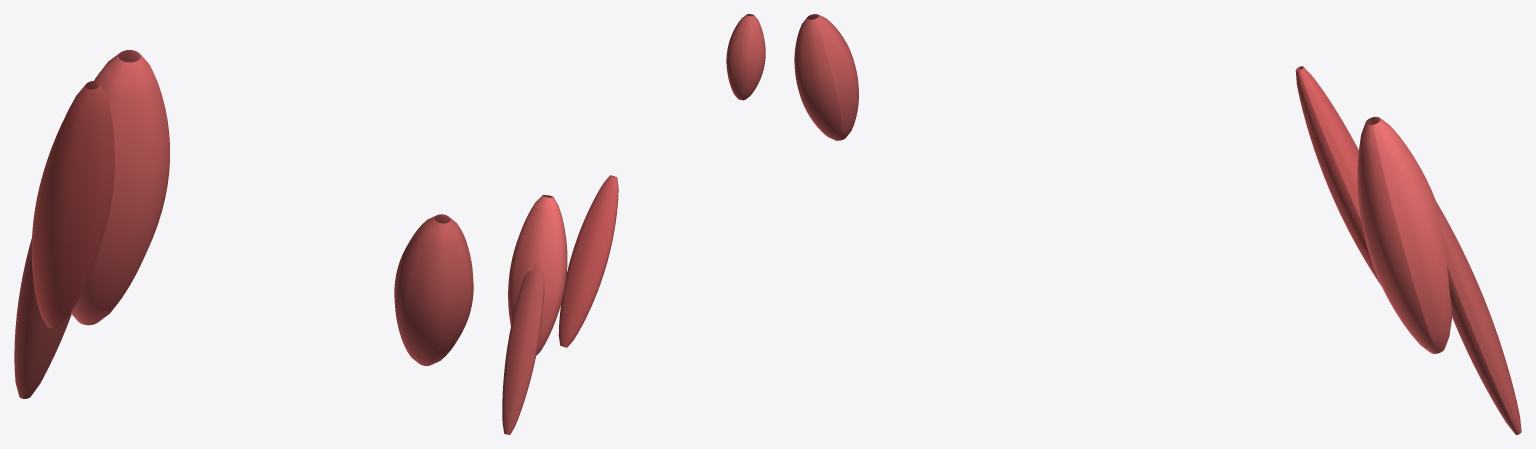
File: muscular.glb
3 views of the same model, side by side, from view 1: azimuth 30°, elevation 25°; view 2: azimuth 150°, elevation 25°; view 3: azimuth 270°, elevation 25° (orthographic). The views are drawn at different scales.
Visible parts, largest first — view 1: Mesh_Canine_MusculusIliopsoas, Mesh_Canine_MusculusQuadricepsFemoris, Mesh_Canine_MusculusMasseter, Mesh_Canine_MusculusGastrocnemius; view 2: Mesh_Canine_MusculusQuadricepsFemoris, Mesh_Canine_MusculusIliopsoas, Mesh_Canine_MusculusGastrocnemius, Mesh_Canine_MusculusMasseter; view 3: Mesh_Canine_MusculusQuadricepsFemoris, Mesh_Canine_MusculusMasseter, Mesh_Canine_MusculusGastrocnemius, Mesh_Canine_MusculusIliopsoas.
Part boxes in pixels (x1,y1,x2,y2): Mesh_Canine_MusculusIliopsoas: (31, 81, 114, 328); Mesh_Canine_MusculusQuadricepsFemoris: (71, 50, 169, 325); Mesh_Canine_MusculusMasseter: (394, 214, 473, 365); Mesh_Canine_MusculusGastrocnemius: (14, 238, 71, 398); Mesh_Canine_MusculusQuadricepsFemoris: (508, 195, 567, 355); Mesh_Canine_MusculusIliopsoas: (558, 175, 618, 347); Mesh_Canine_MusculusGastrocnemius: (502, 263, 544, 434); Mesh_Canine_MusculusMasseter: (726, 14, 765, 100); Mesh_Canine_MusculusQuadricepsFemoris: (1357, 116, 1451, 353); Mesh_Canine_MusculusMasseter: (794, 14, 858, 140); Mesh_Canine_MusculusGastrocnemius: (1436, 202, 1521, 434); Mesh_Canine_MusculusIliopsoas: (1295, 66, 1381, 285).
Size of the model in its own units: 0.2741 by 0.8646 by 1.41.
